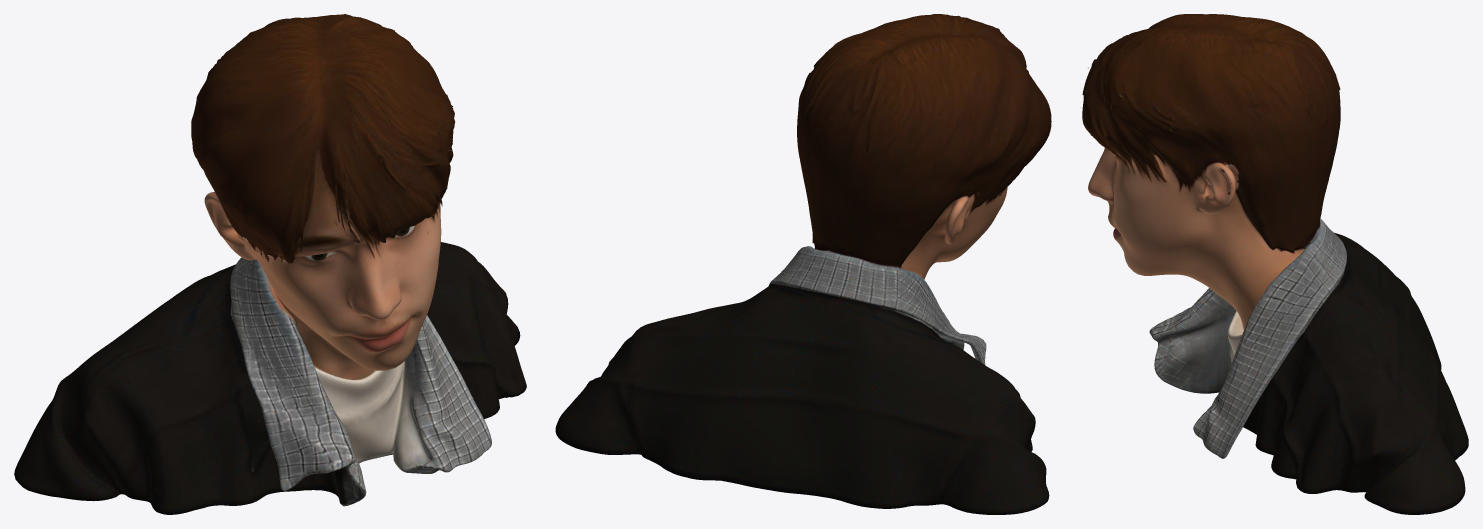
The model's file is portrait.glb.
3 views of the same model, side by side, from view 1: azimuth 30°, elevation 25°; view 2: azimuth 150°, elevation 25°; view 3: azimuth 270°, elevation 25° (orthographic). The views are drawn at different scales.
Visible parts, largest first — view 1: second_avatar; view 2: second_avatar; view 3: second_avatar.
Boxes of the visible parts, x1,y1,x2,y2 form: second_avatar: (14,14,526,514); second_avatar: (555,14,1051,514); second_avatar: (1082,14,1468,514).
Bounding box in the file's own units: 97.61 × 78.39 × 75.12.
Materials: 1 (1 with a texture image).
